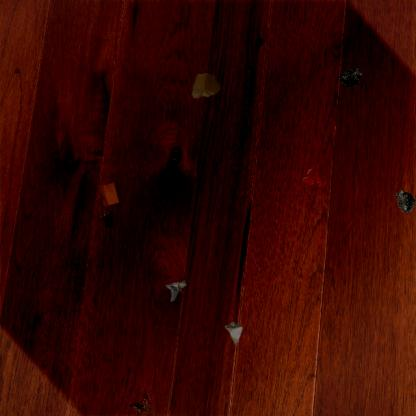dirty: (190, 72, 222, 100), (96, 180, 121, 209), (128, 392, 154, 416), (164, 278, 188, 303), (337, 64, 362, 87), (224, 320, 244, 348), (394, 190, 416, 214)
liquid: (301, 167, 323, 188), (98, 207, 113, 228)
